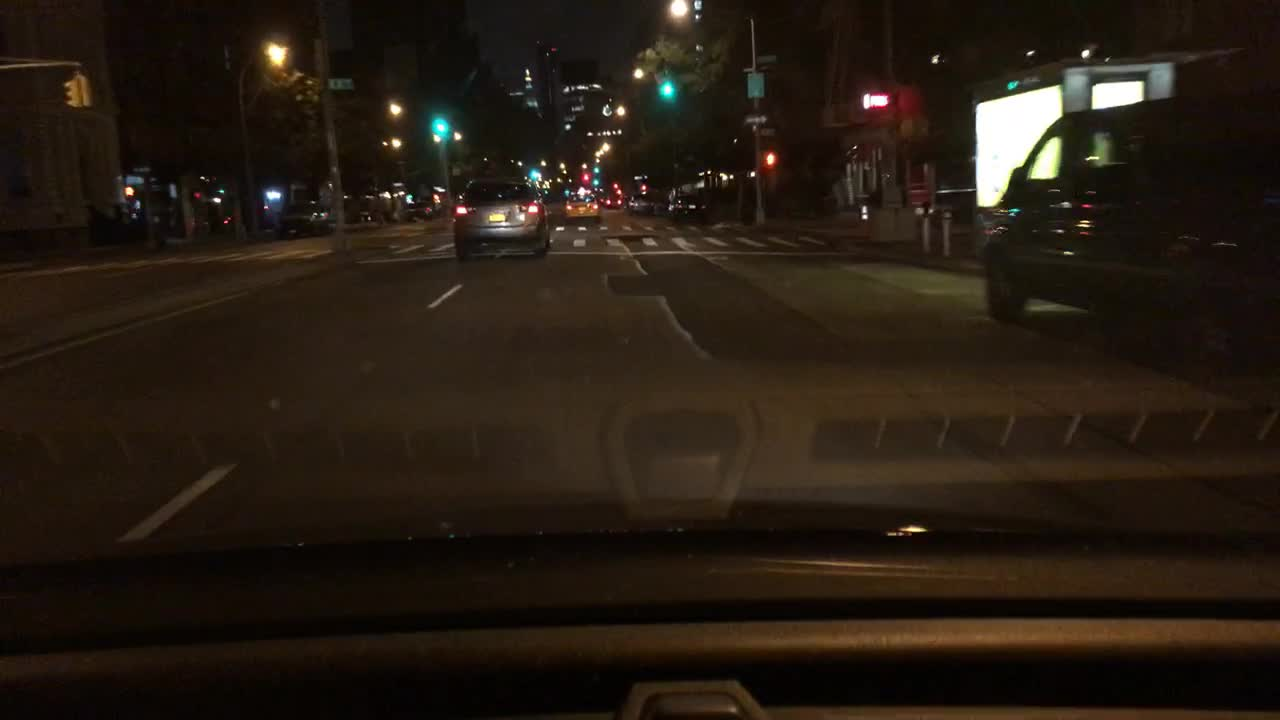car: (978, 92, 1278, 321), (449, 172, 553, 254), (271, 199, 331, 236), (662, 187, 715, 224), (558, 178, 601, 223), (624, 181, 660, 214), (534, 178, 559, 224), (412, 187, 443, 223), (601, 187, 623, 207)
traffic light: (860, 87, 896, 111), (427, 112, 454, 142), (654, 77, 681, 106), (62, 75, 80, 111), (80, 74, 95, 112), (761, 151, 783, 170), (122, 185, 136, 203)
traffic sign: (745, 69, 764, 98), (326, 74, 357, 89), (743, 111, 770, 125)
